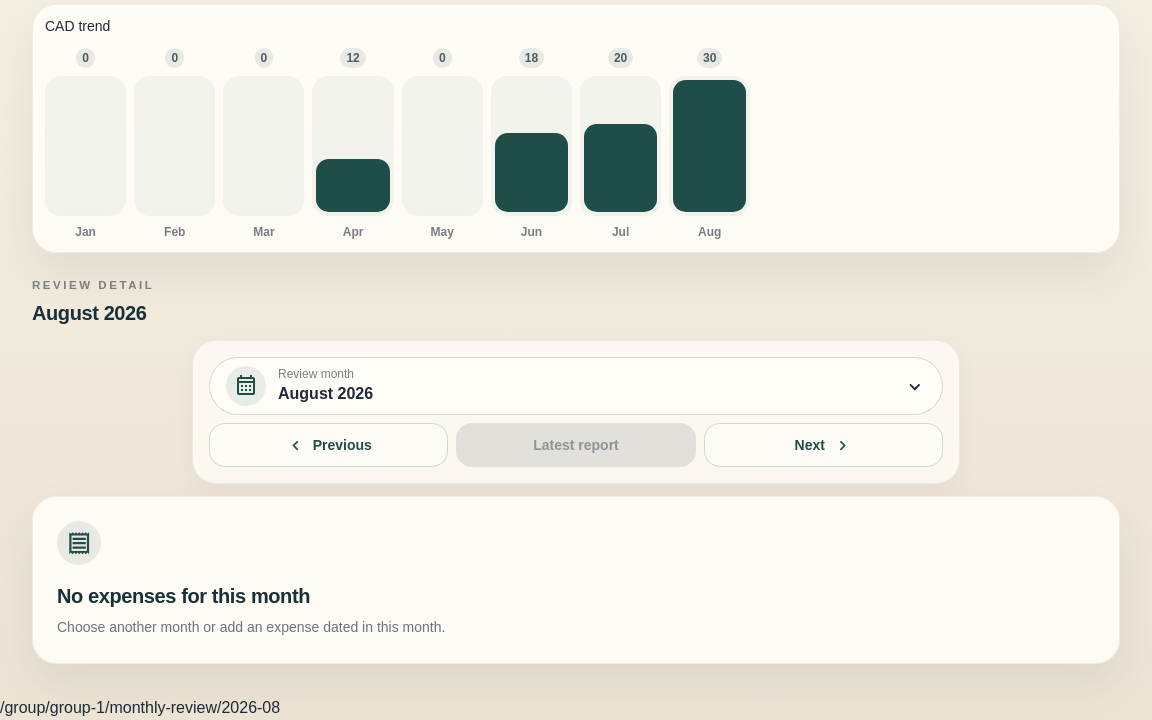
Test: MonthlyReview › returns to the latest published report
(page scrolled)
Expected: the heading "No expenses for this month" is shown, x1=57 y1=585 x2=310 y2=607
Click the button "Review month August 2026": click(246, 386) x1=209 y1=357 x2=943 y2=415
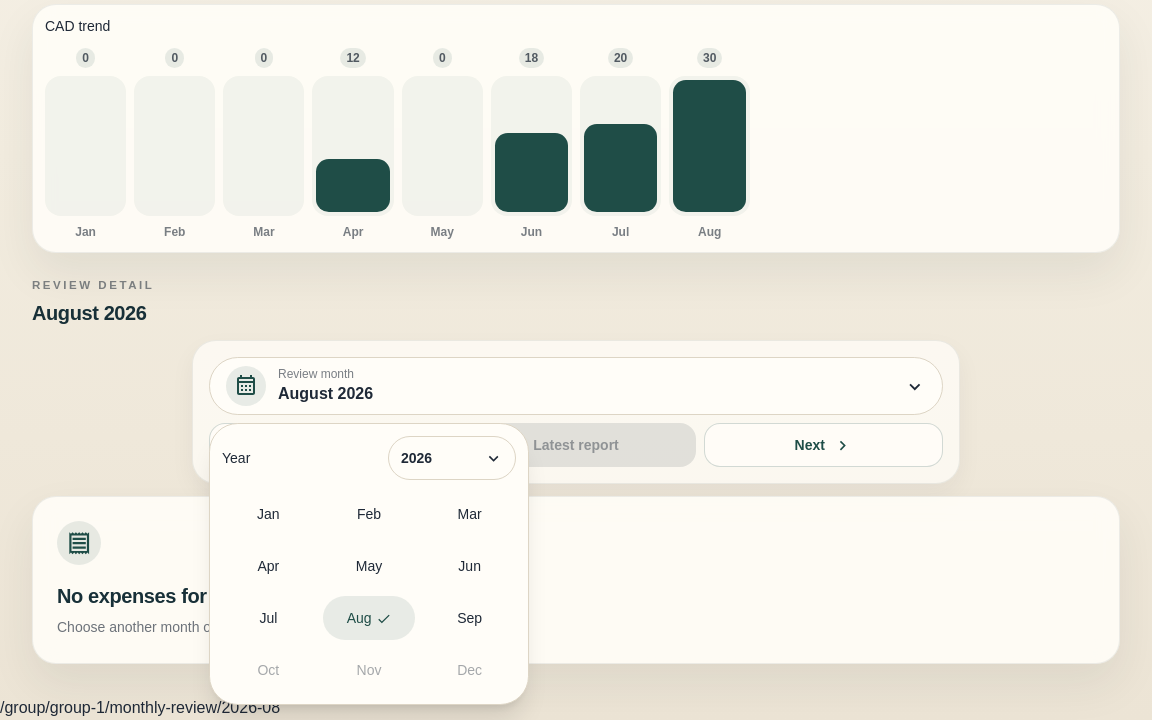
Click the button with aria-label "July 2026": click(268, 618) x1=222 y1=596 x2=315 y2=640
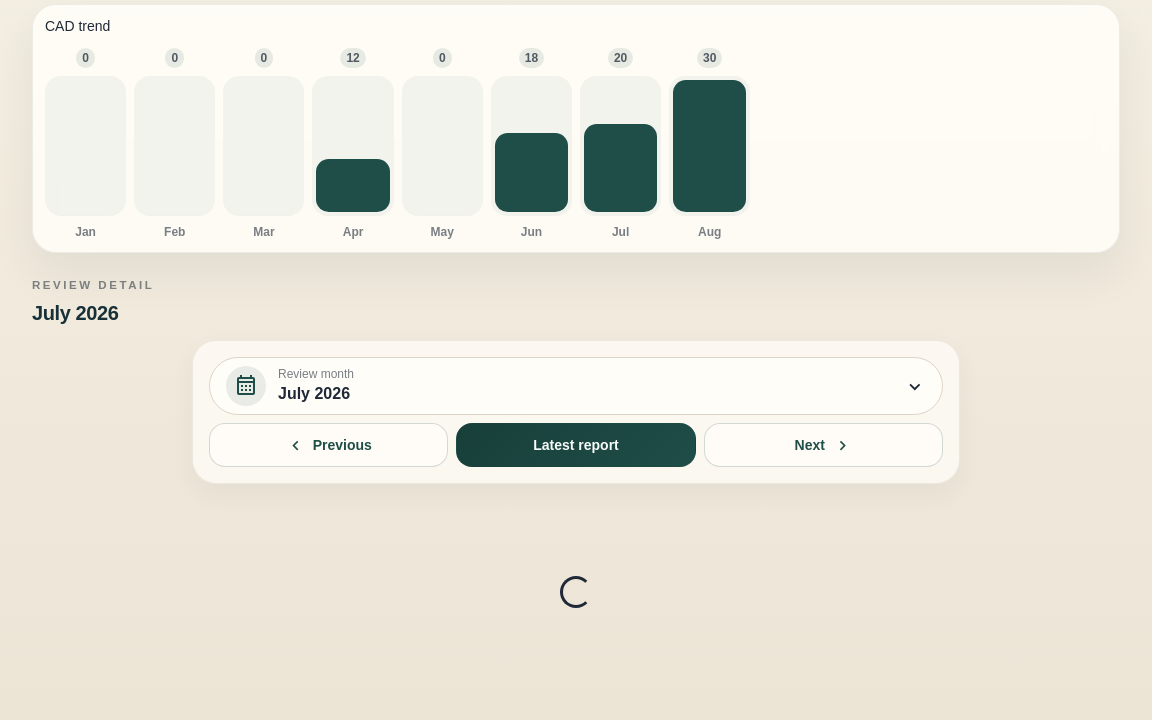
Click the button "Latest report": click(576, 445) x1=456 y1=423 x2=696 y2=467
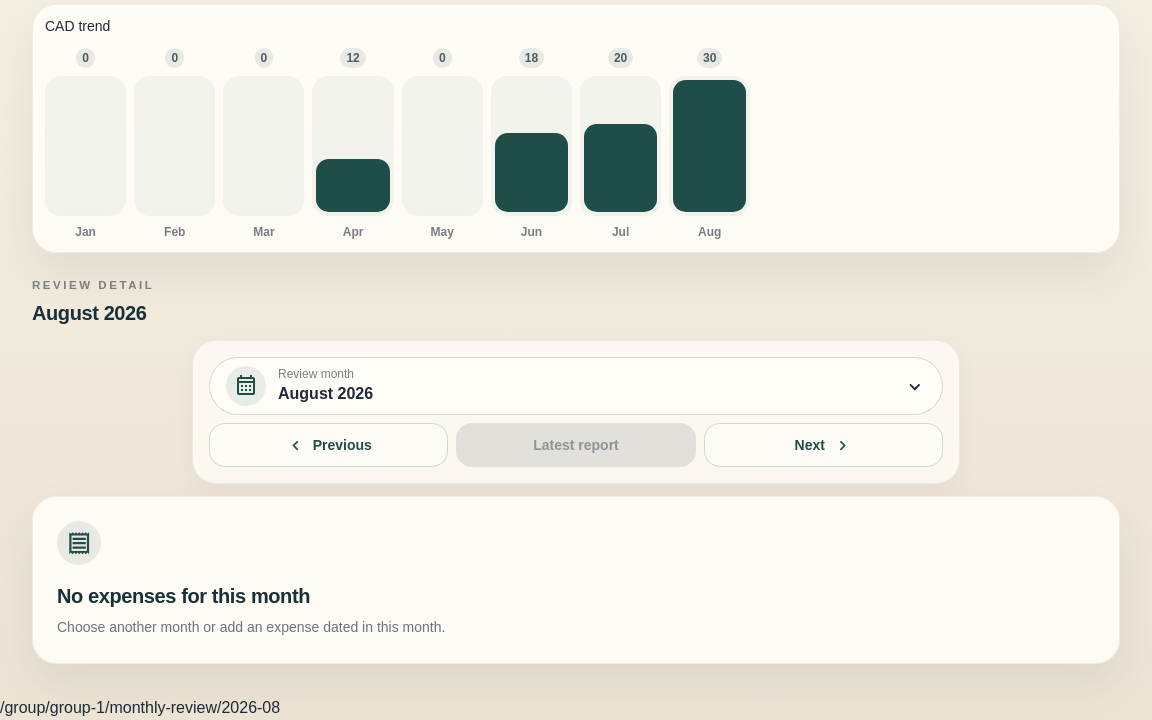
Expected: the text with test id "review-location" reads "/group/group-1/monthly-review/2026-08", x1=0 y1=699 x2=280 y2=716
